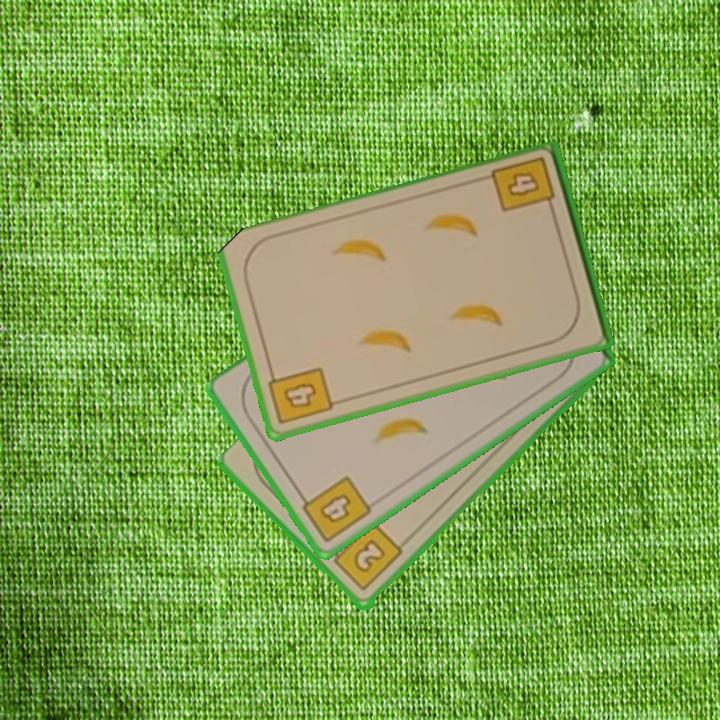2b: (325, 519, 406, 595)
4b: (294, 473, 375, 546), (488, 153, 559, 218), (265, 364, 336, 428)
